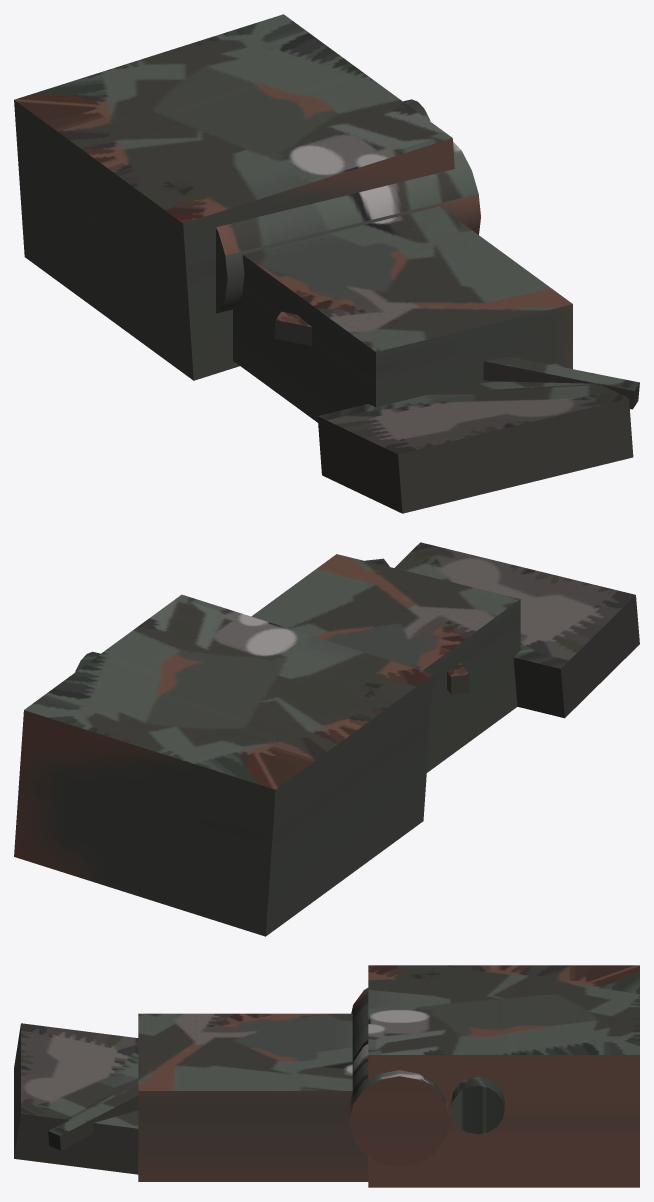
The model's file is Building_AncientWarwalkerLeg.obj.
The picture shows the model from 3 angles, top to bottom: view 1: azimuth 30°, elevation 25°; view 2: azimuth 150°, elevation 25°; view 3: azimuth 270°, elevation 25°; orthographic projection. The views are drawn at different scales.
Parts seen in each view (by area): view 1: Body; view 2: Body; view 3: Body.
Boxes of the visible parts, x1,y1,x2,y2 form: Body: (14,14,639,513); Body: (14,542,639,936); Body: (14,965,639,1187).
Bounding box in the file's own units: 1.69 × 0.9526 × 3.74.
Materials: 1 (1 with a texture image).
